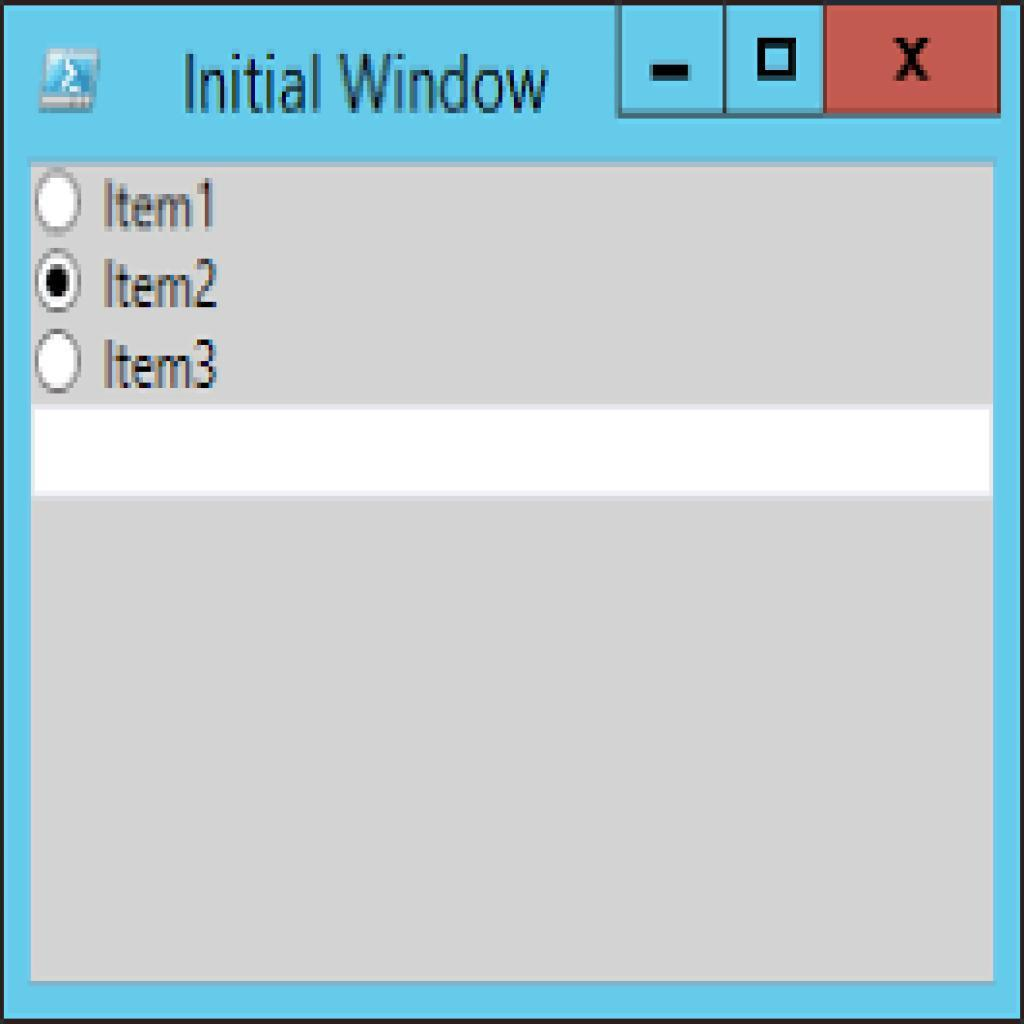label: (95, 173, 230, 235), (102, 332, 234, 393), (96, 250, 222, 310)
radio: (34, 164, 84, 241), (34, 246, 83, 323), (32, 329, 83, 397)
